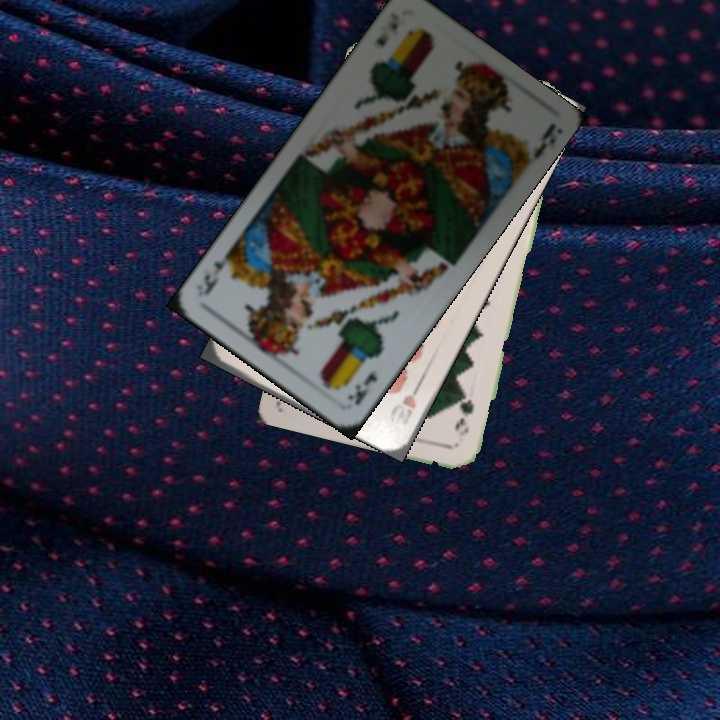EK: (343, 365, 381, 408), (372, 8, 403, 50)
G9: (452, 389, 477, 438)
H10: (394, 375, 425, 428)
